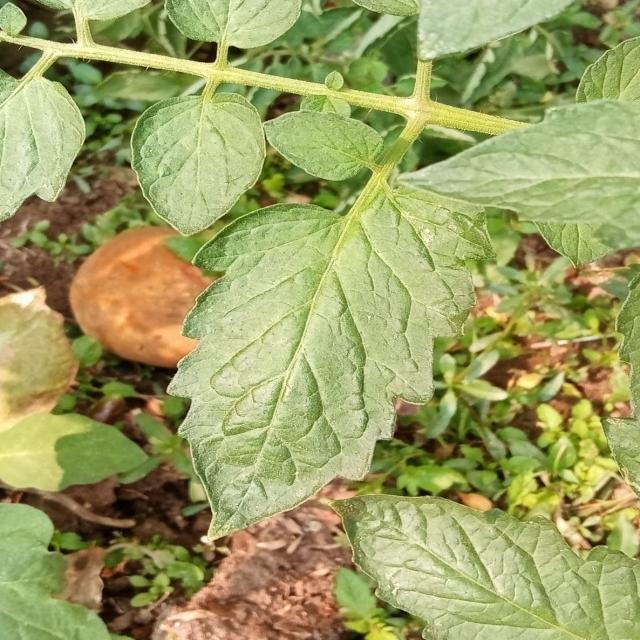Healthy: (128, 152, 546, 539), (335, 496, 639, 639), (398, 89, 640, 242), (113, 69, 291, 246), (255, 97, 388, 191)
